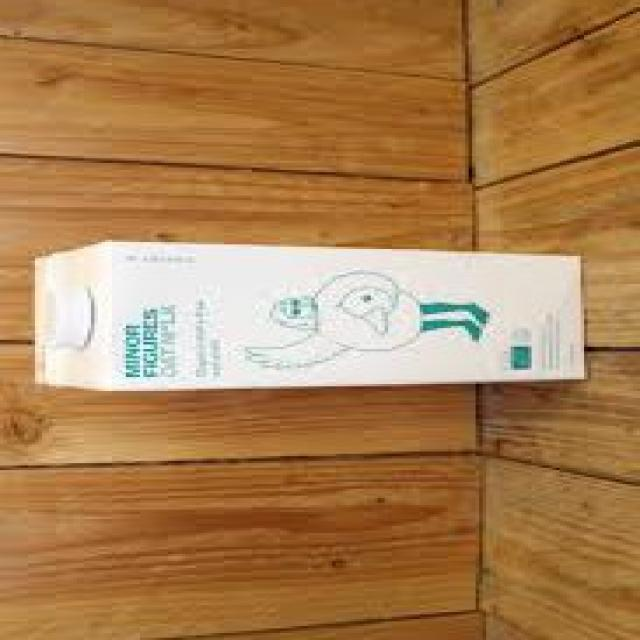non_white_jug: (29, 239, 598, 390)
